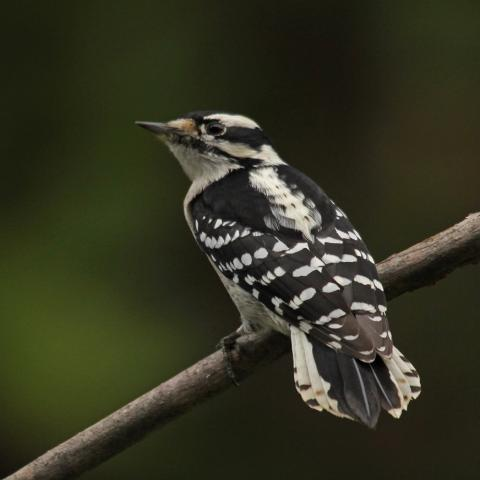bird: (132, 108, 423, 430)
